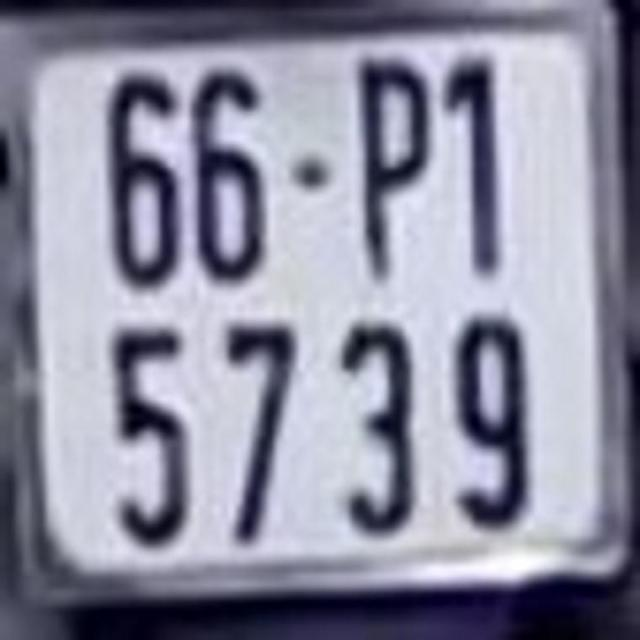1: (437, 51, 511, 279)
3: (332, 314, 418, 533)
5: (102, 321, 196, 546)
6: (187, 62, 267, 284), (102, 68, 180, 276)
7: (218, 318, 298, 544)
9: (452, 307, 535, 528)
P: (348, 49, 432, 282)
